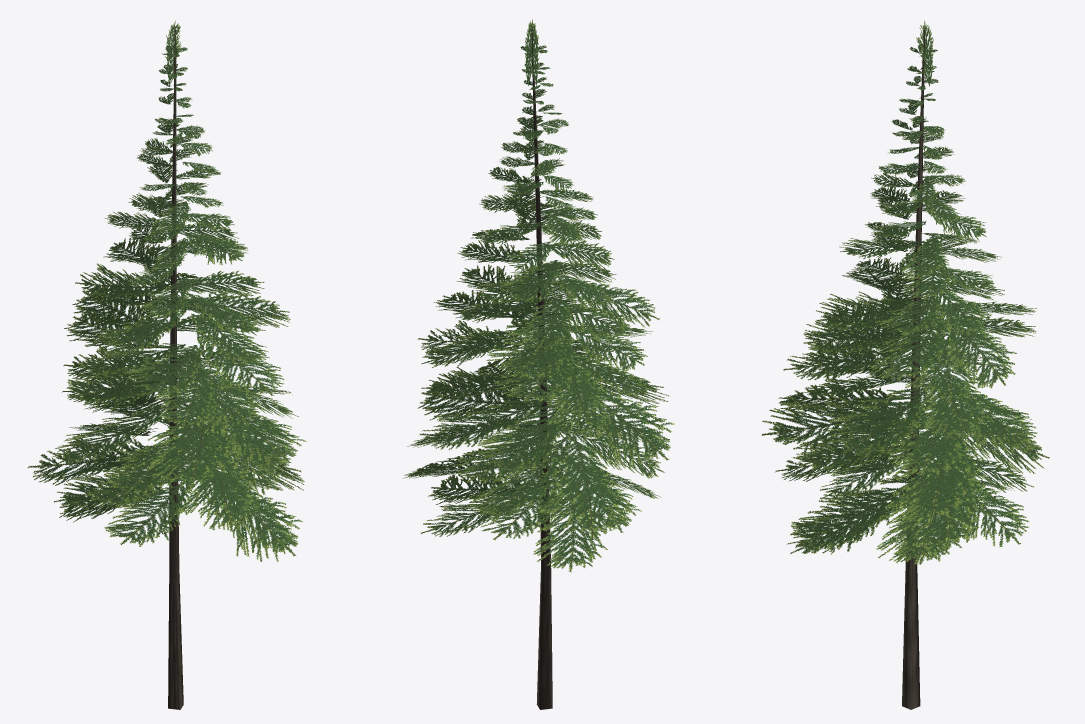
Rendered from mid.glb.
3 views of the same model, side by side, from view 1: azimuth 30°, elevation 25°; view 2: azimuth 150°, elevation 25°; view 3: azimuth 270°, elevation 25° (orthographic).
Parts seen in each view (by area): view 1: spruce_02; view 2: spruce_02; view 3: spruce_02.
Boxes of the visible parts, x1=… form: spruce_02: x1=27, y1=20, x2=306, y2=709; spruce_02: x1=403, y1=19, x2=674, y2=709; spruce_02: x1=762, y1=20, x2=1049, y2=709.
Bounding box in the file's own units: 8.2 × 19.63 × 8.66.
2 materials, 2 textured.
